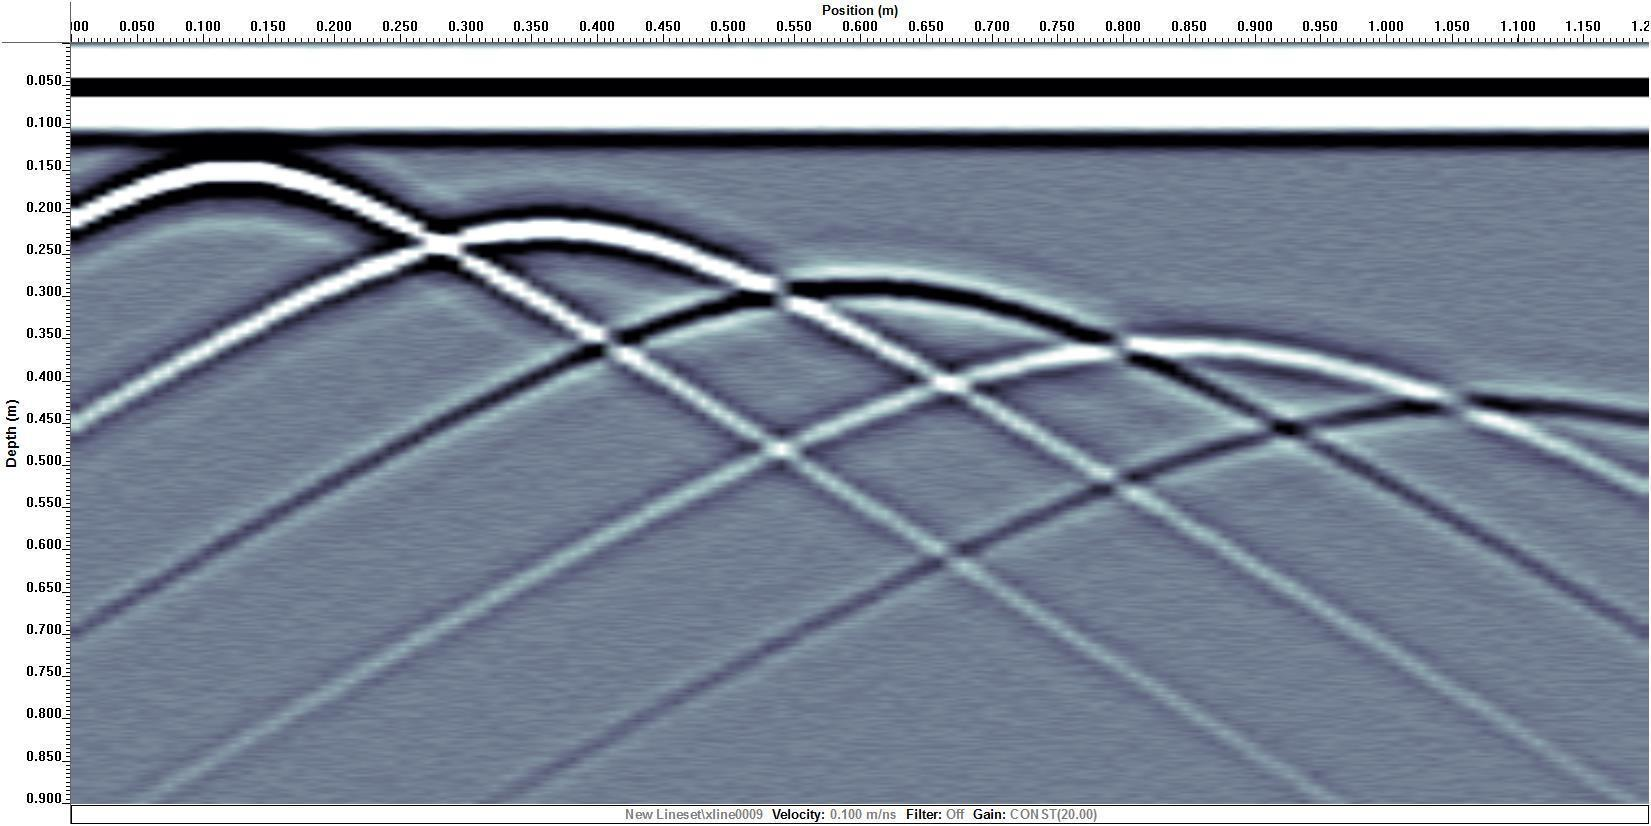hyperbola: (927, 301, 1436, 414), (590, 248, 1101, 355), (325, 199, 763, 304), (74, 143, 419, 251)
